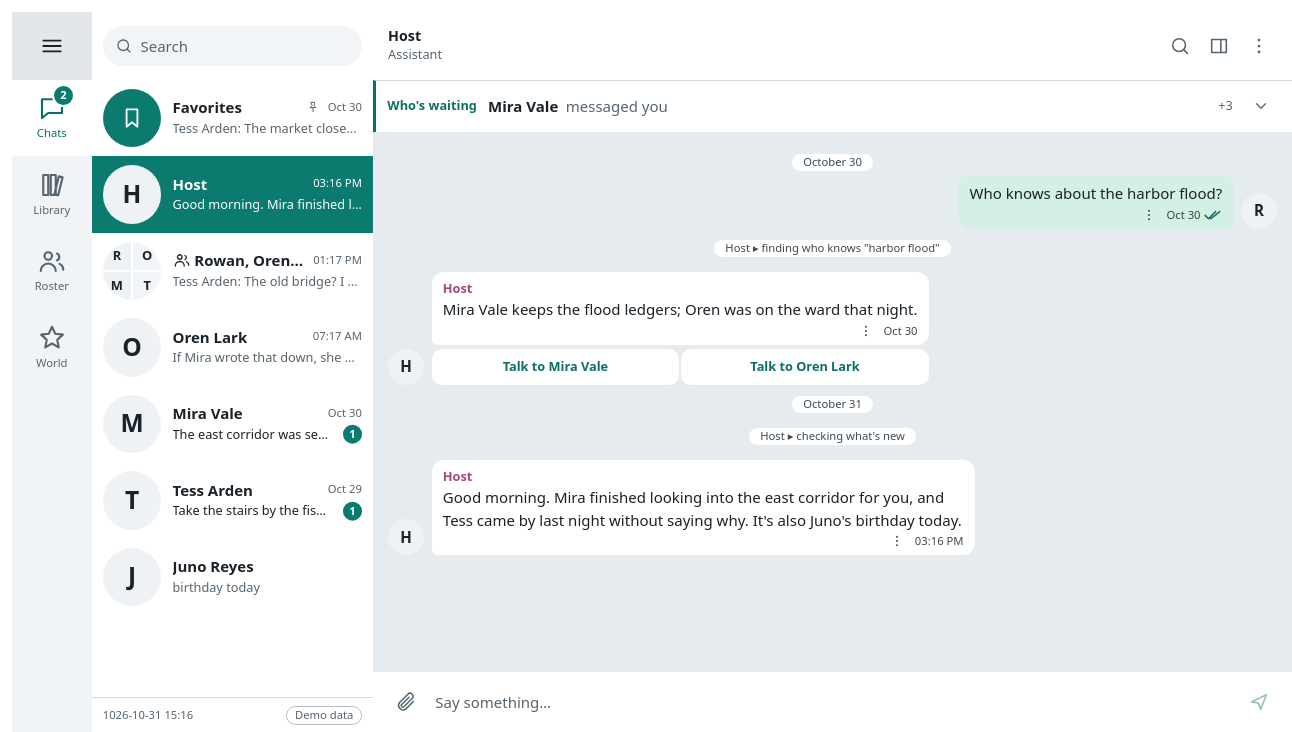
Test: roster: bands, no numbers on rows, disabled collapsed
Expected: the heading "Who's waiting" is shown, [387,98,477,114]
What coordinates should you click on to do the following:
click the button "Roster"
I would click on:
 (52, 271)
Its box is [12,232,92,309].
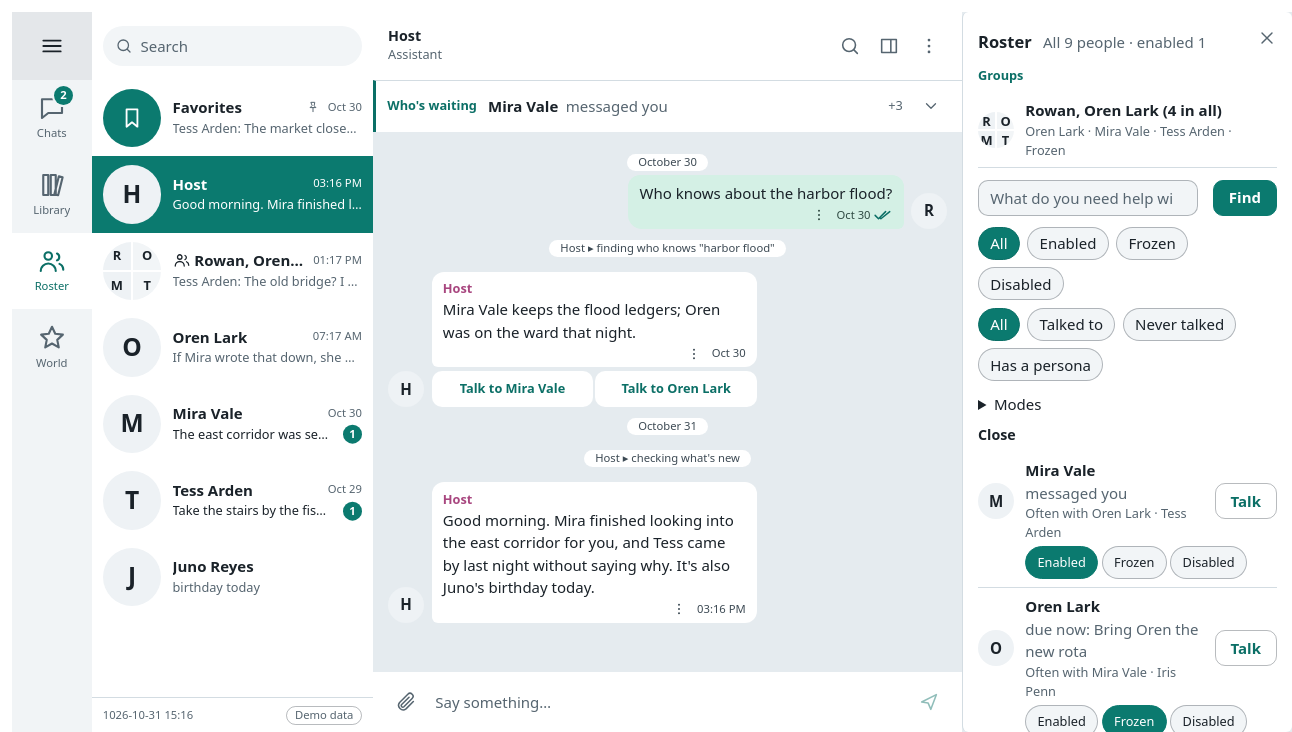
Result: the heading "Close" is shown at [978,425,1016,444]
What coordinates should you click on to do the following:
click the button "Mira Vale"
I would click on:
 (1060, 471)
Its box is [1025,459,1095,482].
(page scrolled)
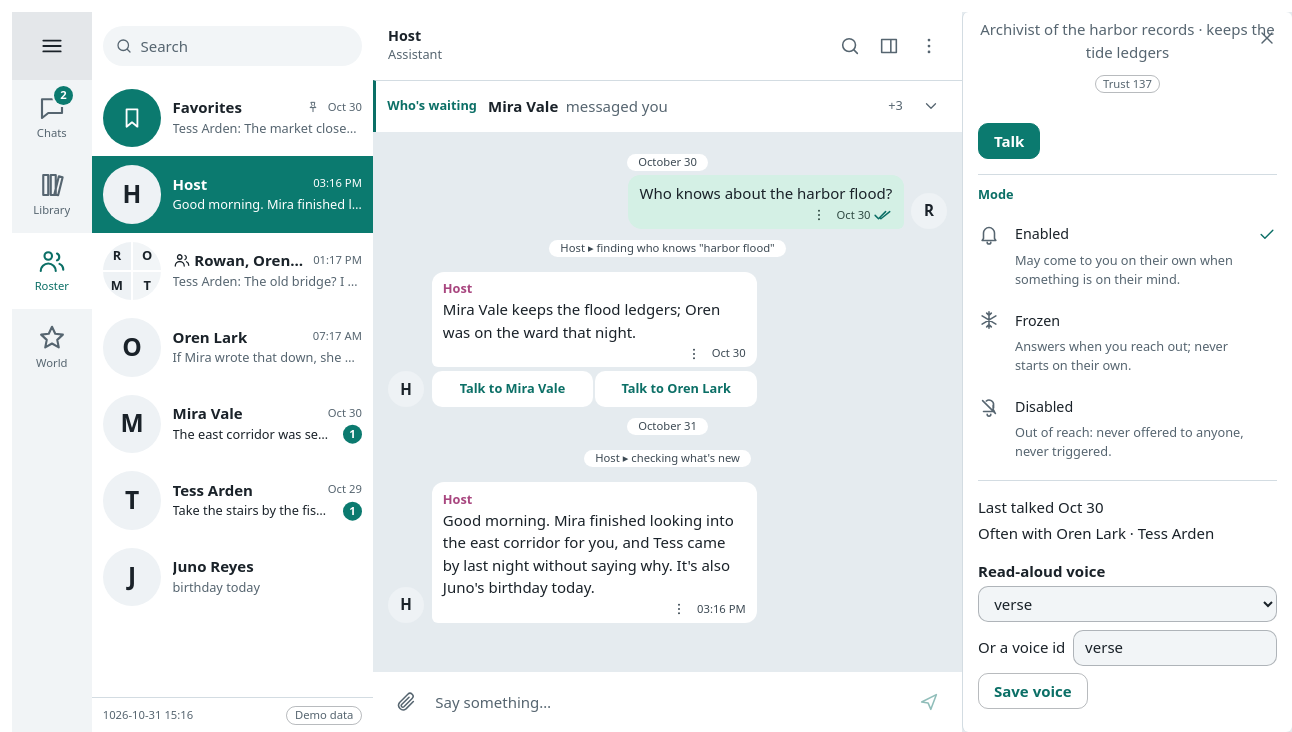
Result: the text "Trust 137" is shown at [1094,74,1160,93]
Result: the element "Read-aloud voice" is shown at [978,560,1277,709]
